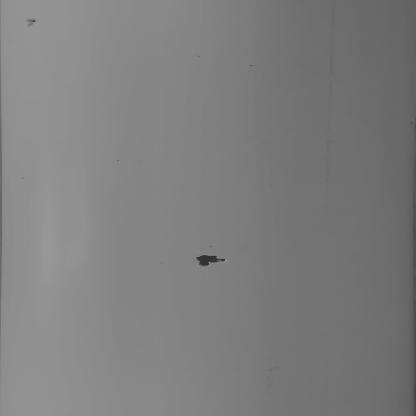kongdong: (191, 245, 243, 272)
